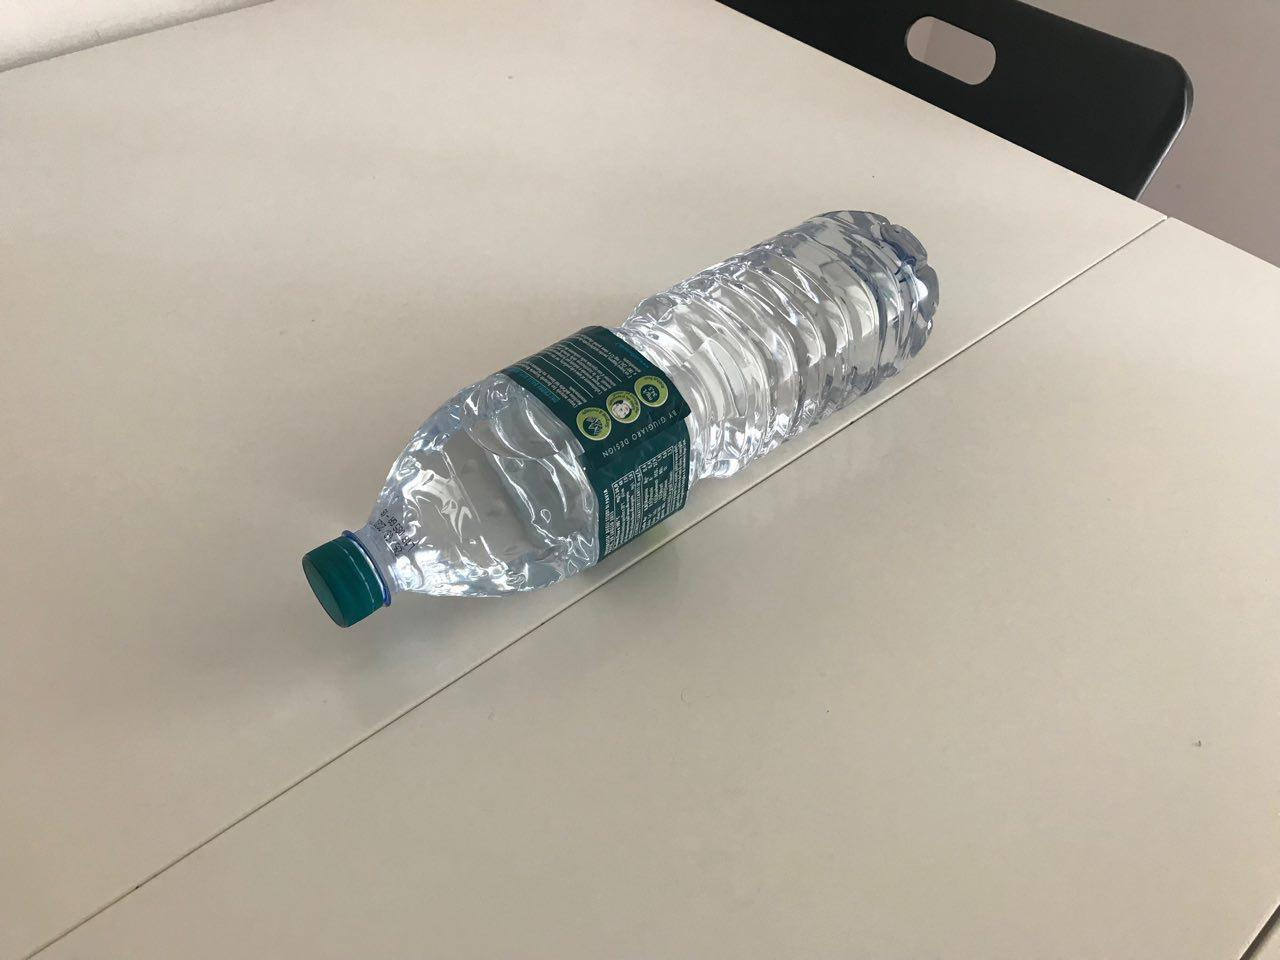san_bernardo: (300, 209, 941, 629)
